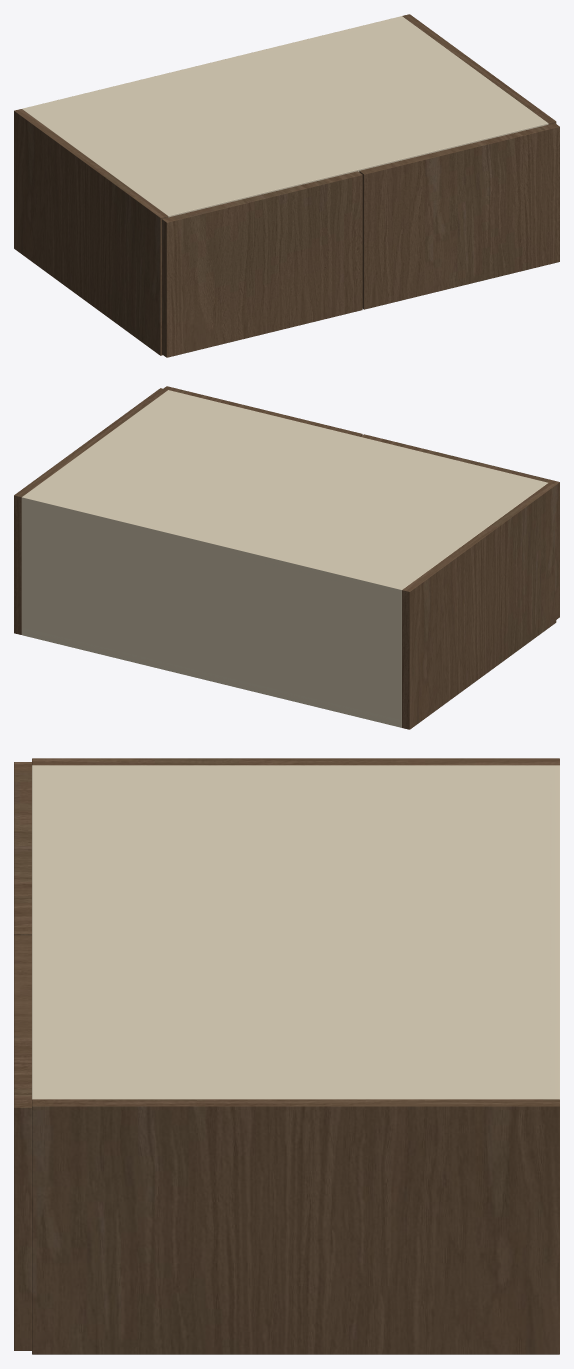
The model's file is oppein-ply-mso-w361224.glb.
3 views of the same model, one above another, from view 1: azimuth 30°, elevation 25°; view 2: azimuth 150°, elevation 25°; view 3: azimuth 270°, elevation 25° (orthographic). The views are drawn at different scales.
Visible parts, largest first — view 1: Cabinet top, Door, Door.001, Cabinet side, Cabinet side.001, Cabinet back; view 2: Cabinet top, Cabinet back, Cabinet side, Cabinet bottom, Cabinet side.001, Door, Door.001; view 3: Cabinet top, Cabinet side.001, Door.001, Cabinet side, Cabinet back, Door.
Boxes of the visible parts, bbox=[...] form: Cabinet top: bbox=[22, 17, 548, 217]; Door: bbox=[162, 171, 362, 357]; Door.001: bbox=[359, 123, 559, 309]; Cabinet side: bbox=[14, 109, 167, 355]; Cabinet side.001: bbox=[402, 14, 556, 124]; Cabinet back: bbox=[22, 16, 403, 110]; Cabinet top: bbox=[22, 390, 547, 595]; Cabinet back: bbox=[21, 495, 404, 727]; Cabinet side: bbox=[402, 483, 556, 729]; Cabinet bottom: bbox=[22, 628, 401, 727]; Cabinet side.001: bbox=[14, 388, 167, 634]; Door: bbox=[361, 434, 559, 619]; Door.001: bbox=[163, 386, 362, 436]; Cabinet top: bbox=[32, 765, 559, 1099]; Cabinet side.001: bbox=[32, 1099, 559, 1354]; Door.001: bbox=[14, 935, 31, 1350]; Cabinet side: bbox=[32, 758, 559, 765]; Cabinet back: bbox=[549, 765, 559, 1099]; Door: bbox=[14, 762, 31, 935].
Size of the model in its own units: 0.9144 by 0.3048 by 0.6064.
Materials: 2 (1 with a texture image).
